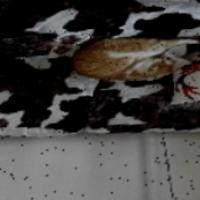asleep: (69, 30, 200, 86)
